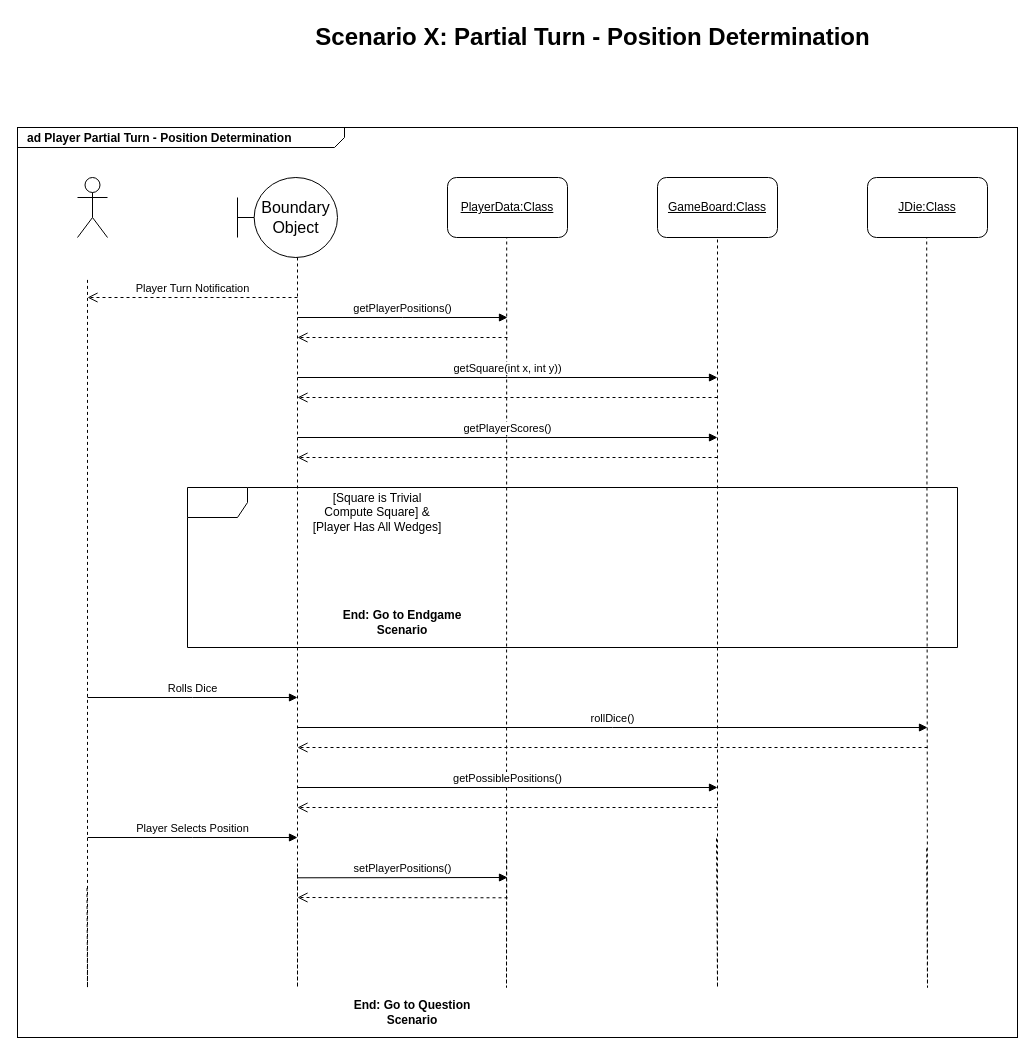
Some shapes in this 1035 by 1055 pixel diagram are drawn without their labels. The box of each missing label's shape, as (x1, y1, x2, y2) in pixels:
alt: (186, 486, 958, 648)
Player A: (76, 176, 108, 238)
